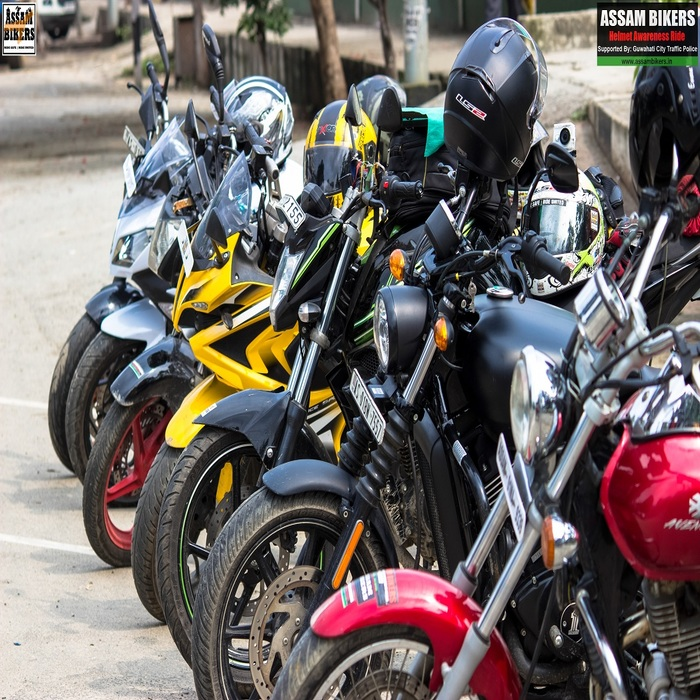h: (439, 11, 549, 188), (298, 97, 390, 213), (630, 51, 700, 192), (208, 73, 294, 175)
